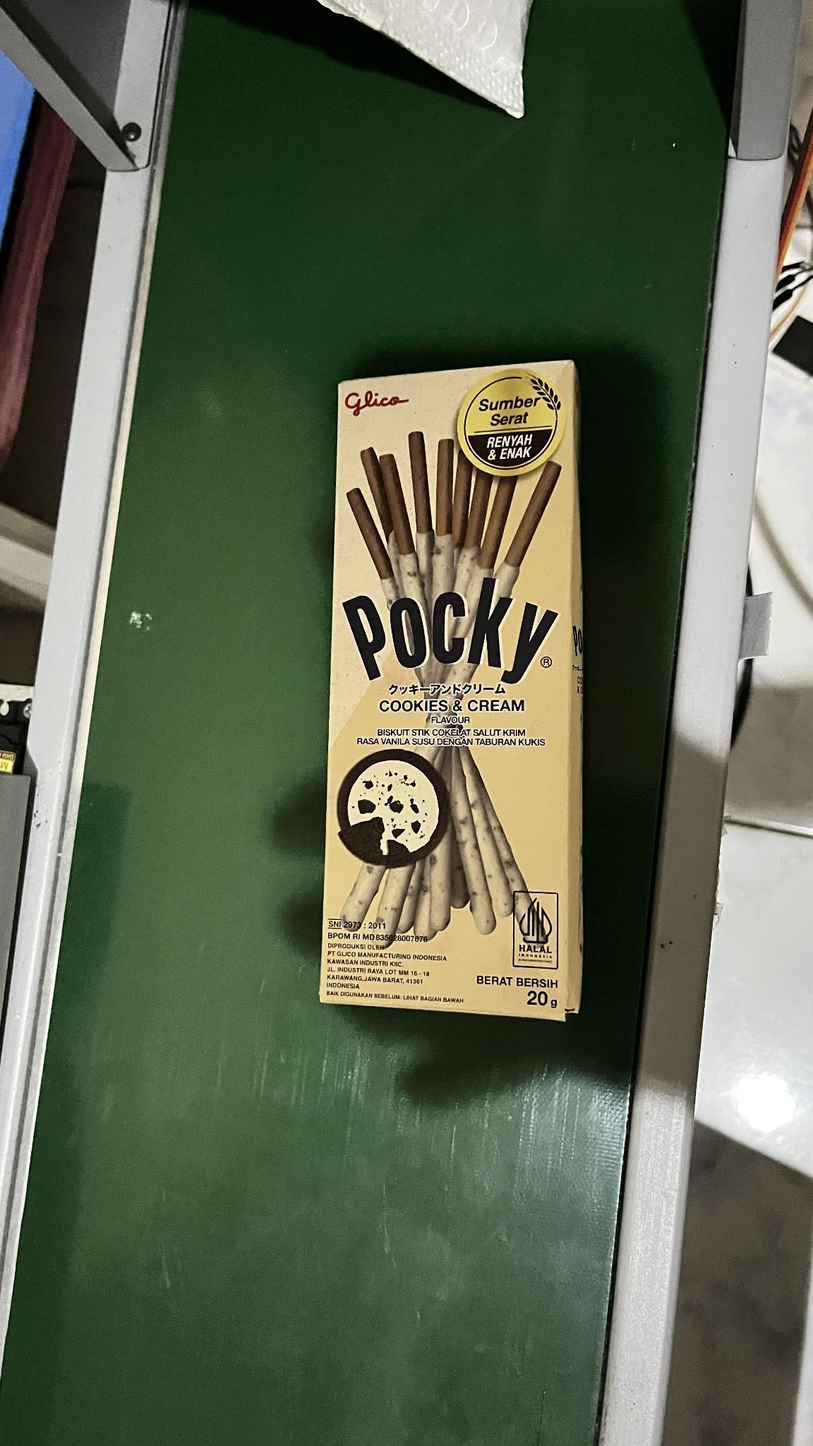Kertas: (323, 380, 591, 1019)
